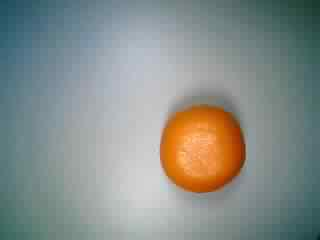orange: (154, 103, 249, 197)
